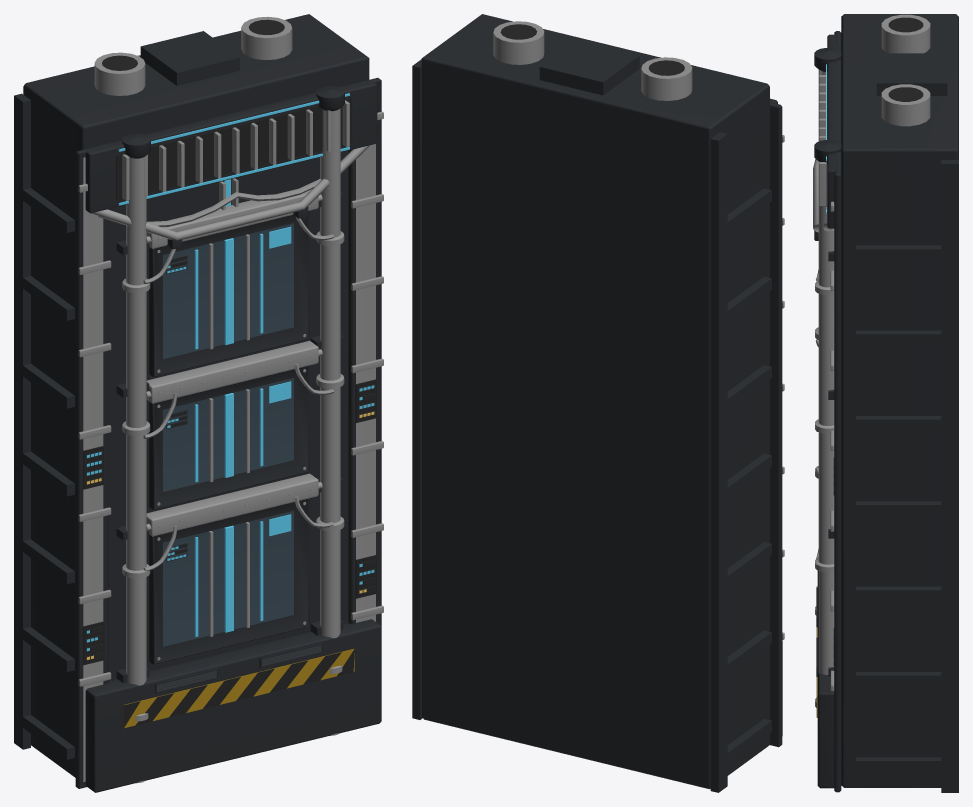
File: Core_Machinery_12m.fbx
The picture shows the model from 3 angles, left to right: view 1: azimuth 30°, elevation 25°; view 2: azimuth 150°, elevation 25°; view 3: azimuth 270°, elevation 25°; orthographic projection. The views are drawn at different scales.
Visible parts, largest first — view 1: Core_Machinery_12m_LOD0; view 2: Core_Machinery_12m_LOD0; view 3: Core_Machinery_12m_LOD0.
Part boxes in pixels (left/top/right/bottom): Core_Machinery_12m_LOD0: left=14, top=14, right=383, bottom=792; Core_Machinery_12m_LOD0: left=412, top=14, right=784, bottom=792; Core_Machinery_12m_LOD0: left=813, top=14, right=958, bottom=792.
Size of what is drawn, in the model's own units: 5.8 by 12.4 by 2.48.
